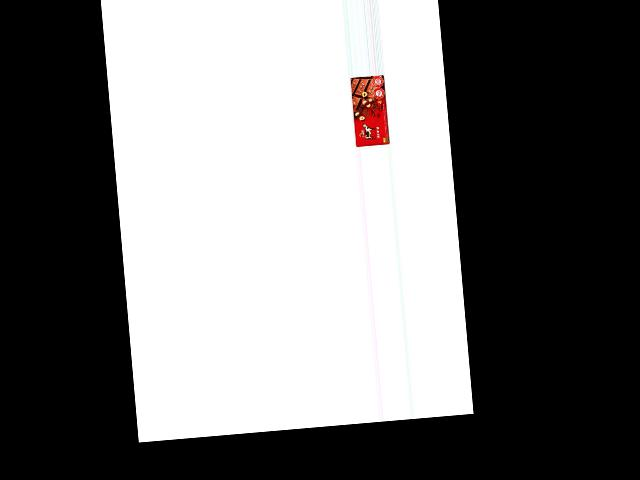chocolate: (350, 74, 390, 147)
